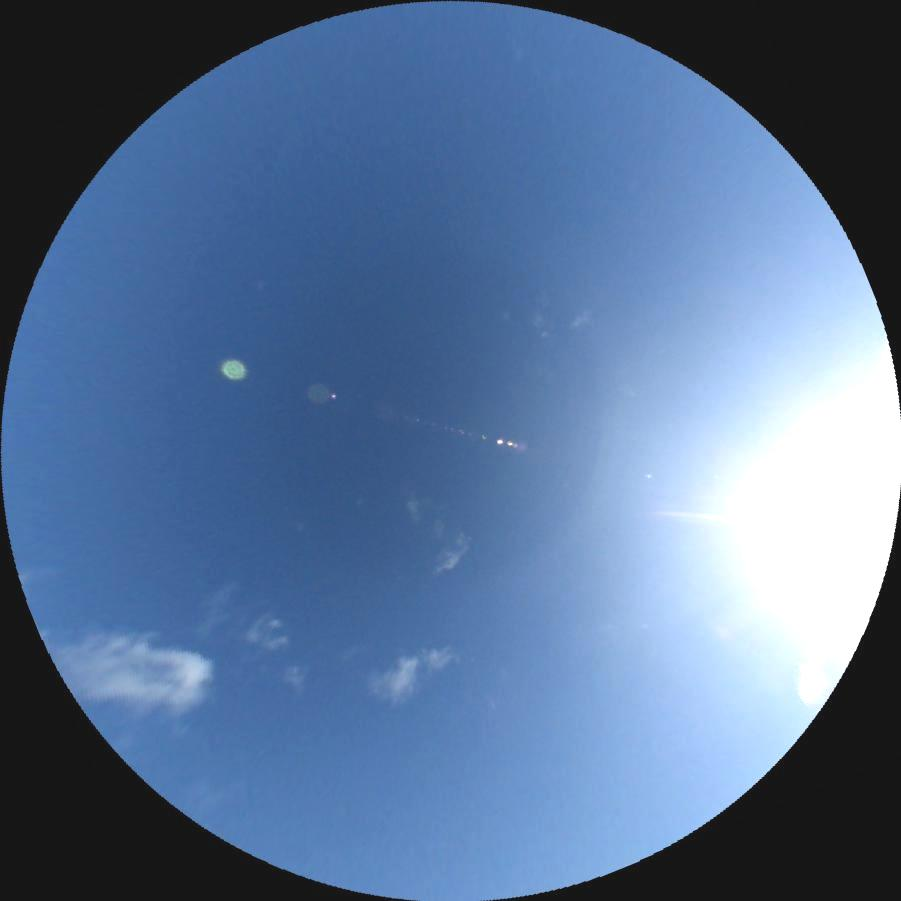parasite: (643, 498, 778, 534)
sun: (761, 423, 901, 643)
